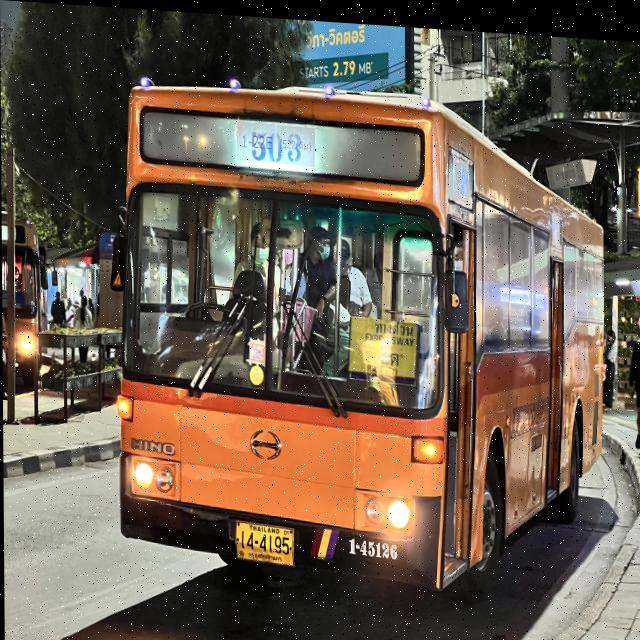BMTA-bus: (115, 82, 607, 588)
Bus Line Number: (234, 118, 314, 166)
Bus Side Number: (348, 531, 399, 559)
Destination Sign: (348, 309, 420, 374)
